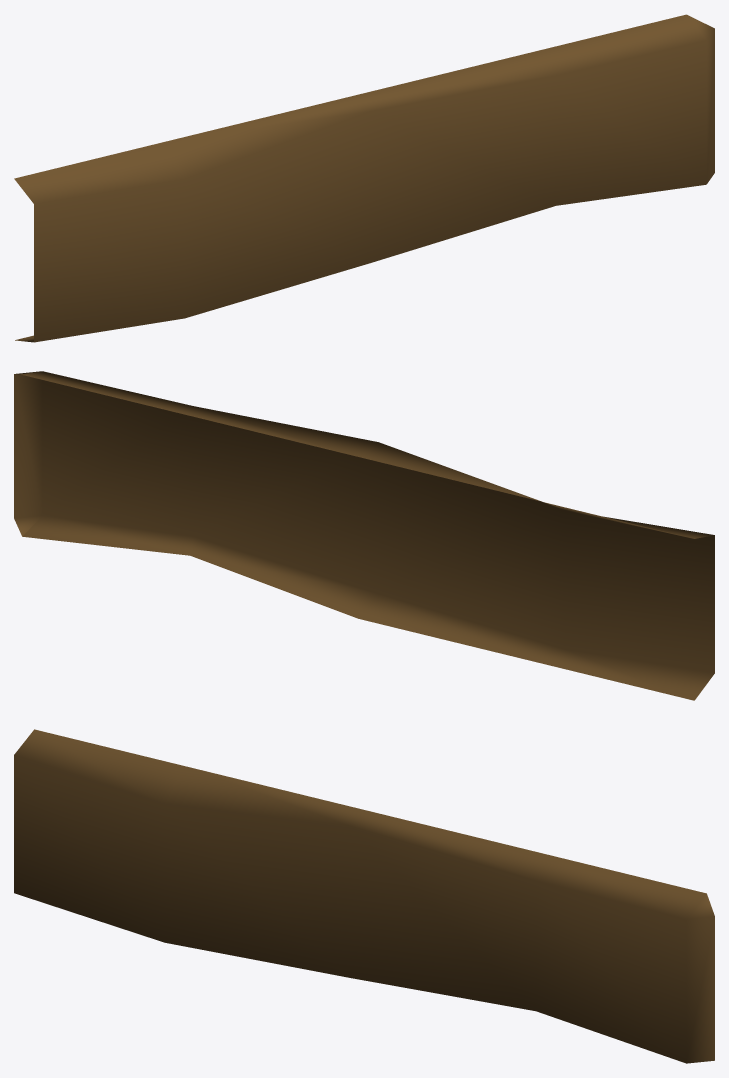
The model's file is Trim_OuterCorner_R_Base.fbx.
3 renders of one model, top to bottom at view 1: azimuth 30°, elevation 25°; view 2: azimuth 150°, elevation 25°; view 3: azimuth 330°, elevation 25°, orthographic.
Visible parts, largest first — view 1: Trim_OuterCorner_R_01; view 2: Trim_OuterCorner_R_01; view 3: Trim_OuterCorner_R_01.
Boxes of the visible parts, left/top/right/bottom form: Trim_OuterCorner_R_01: left=14, top=14, right=714, bottom=342; Trim_OuterCorner_R_01: left=14, top=371, right=714, bottom=700; Trim_OuterCorner_R_01: left=14, top=729, right=714, bottom=1063.
Size of the model in its own units: 103 by 22.99 by 5.23.
